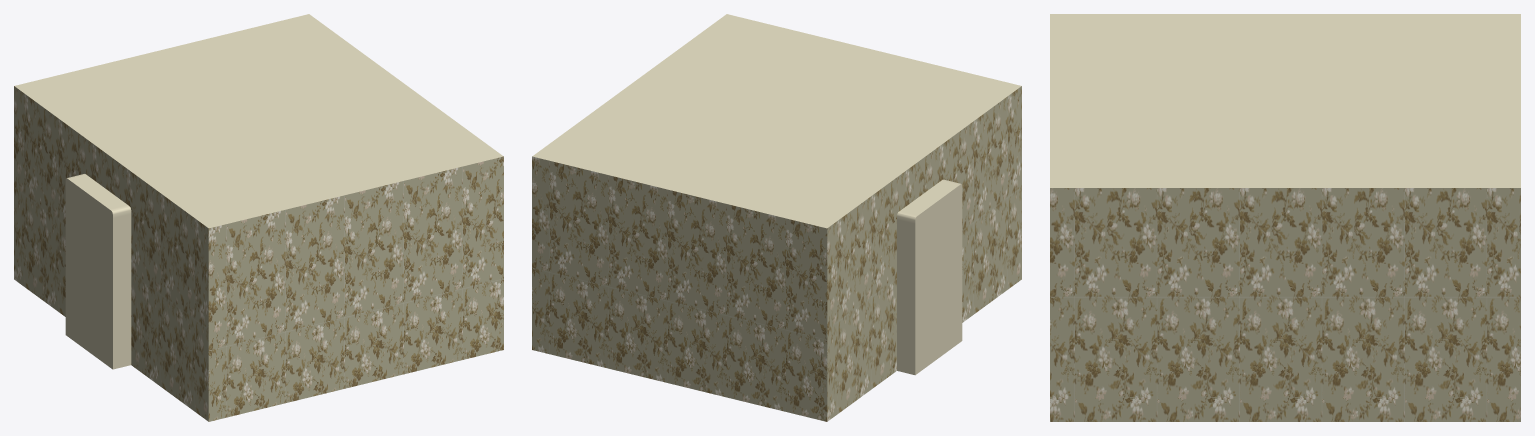
Rendered from Mdl_Home.fbx.
3 renders of one model, left to right at view 1: azimuth 30°, elevation 25°; view 2: azimuth 150°, elevation 25°; view 3: azimuth 270°, elevation 25°, orthographic. The views are drawn at different scales.
Parts seen in each view (by area): view 1: room; view 2: room; view 3: room.
Boxes of the visible parts, box(x1,y1,x2,y2) form: room: box(14, 14, 503, 421); room: box(532, 14, 1021, 421); room: box(1050, 14, 1520, 421).
Size of the model in its own units: 1313 by 776 by 1413.
7 materials, 4 textured.
